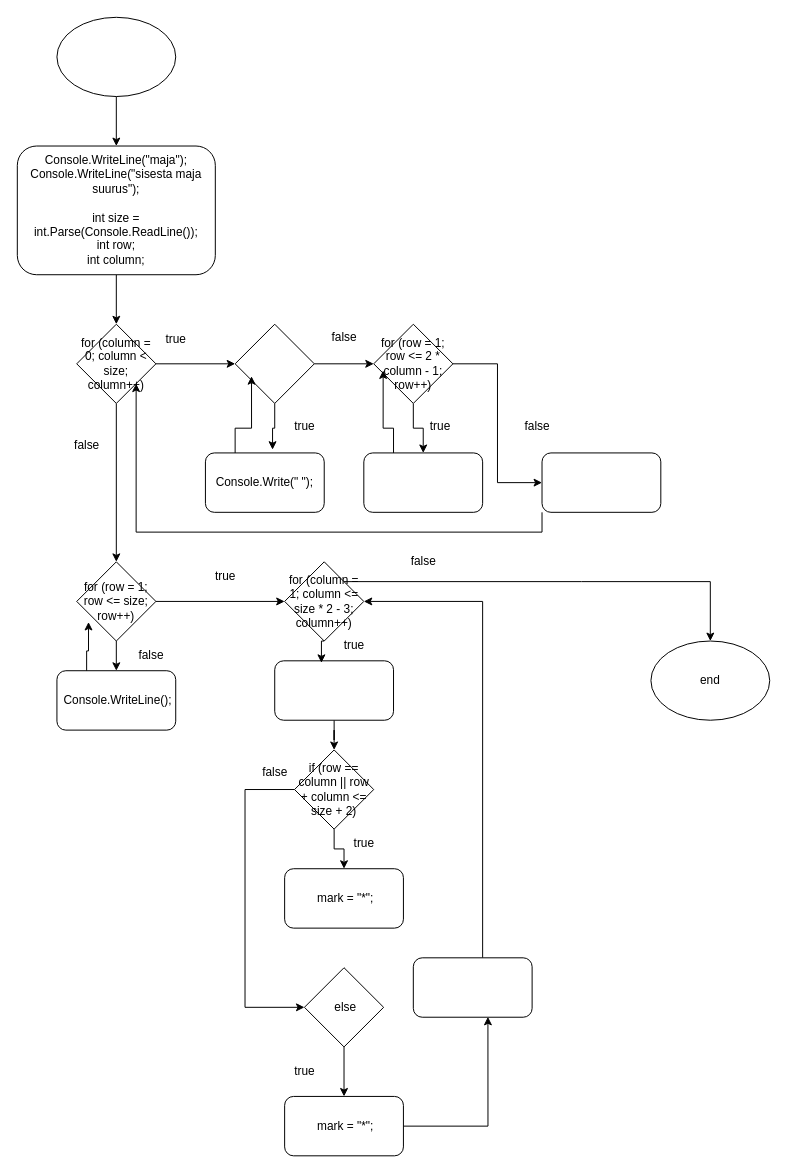
Image size: 787x1173. Some labels were removed from this diagram. The centre of each missing label's shape, as x and y in pixels:
Console.Write("*");: the point at 423,482
Console.Write("\n");: the point at 601,482
Console.Write(mark);: the point at 472,987
for (row = 1; row < size - column; row++): the point at 274,363
start: the point at 116,56
string mark;: the point at 334,690
